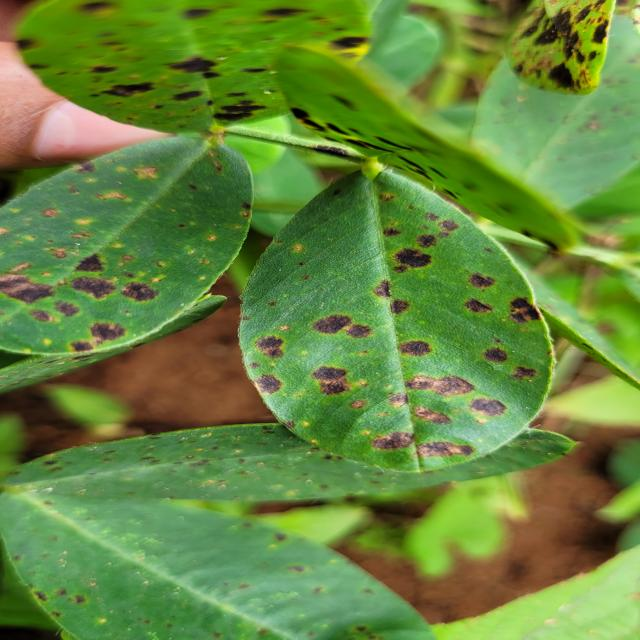Ground nut_tikka leaf spot: (243, 144, 565, 480)
